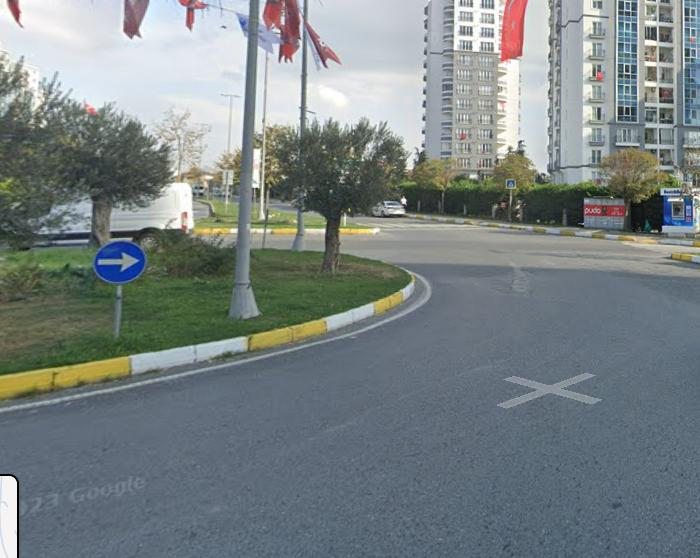turnright: (96, 242, 144, 283)
